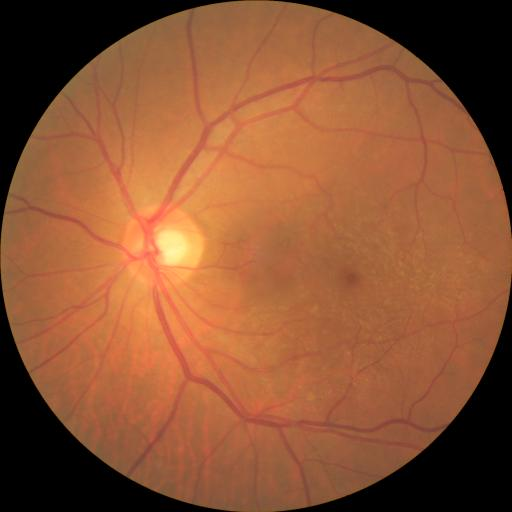Optic Cup: (151, 231, 188, 266)
Optic Disc: (123, 206, 204, 291)
